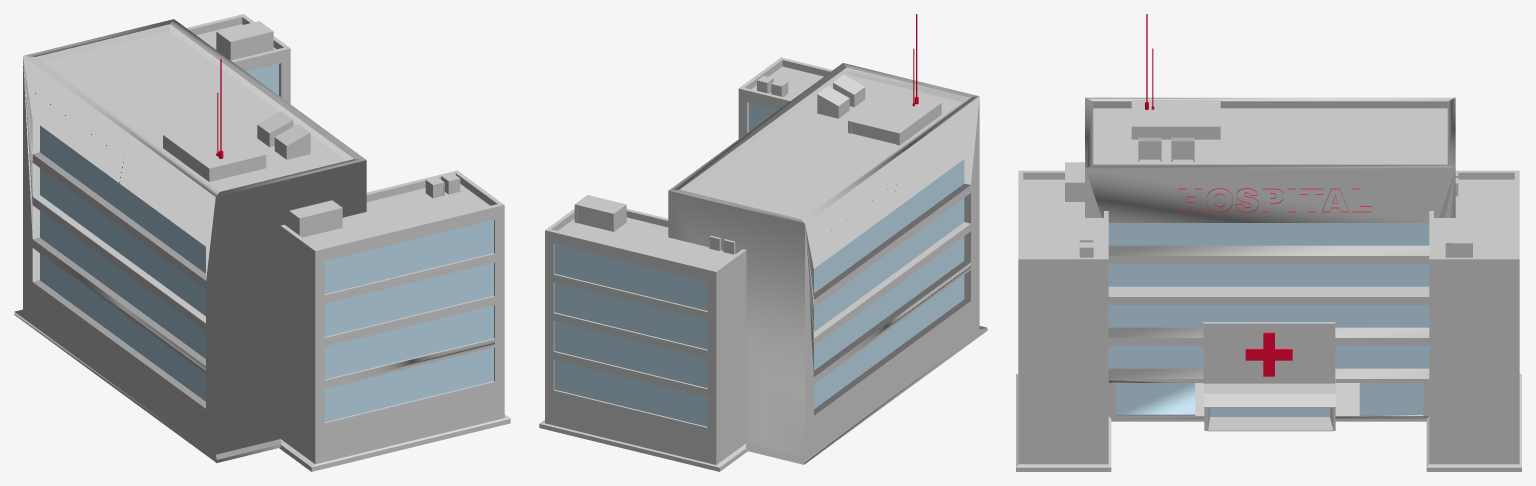
Rendered from hospital.glb.
3 views of the same model, side by side, from view 1: azimuth 30°, elevation 25°; view 2: azimuth 150°, elevation 25°; view 3: azimuth 270°, elevation 25° (orthographic). The views are drawn at different scales.
Parts seen in each view (by area): view 1: Cube_305; view 2: Cube_305; view 3: Cube_305.
Boxes of the visible parts, <box> form: Cube_305: <box>14,14,510,471</box>; Cube_305: <box>539,14,987,471</box>; Cube_305: <box>1016,14,1521,471</box>.
Size of the model in its own units: 3.49 by 4.67 by 6.06.
